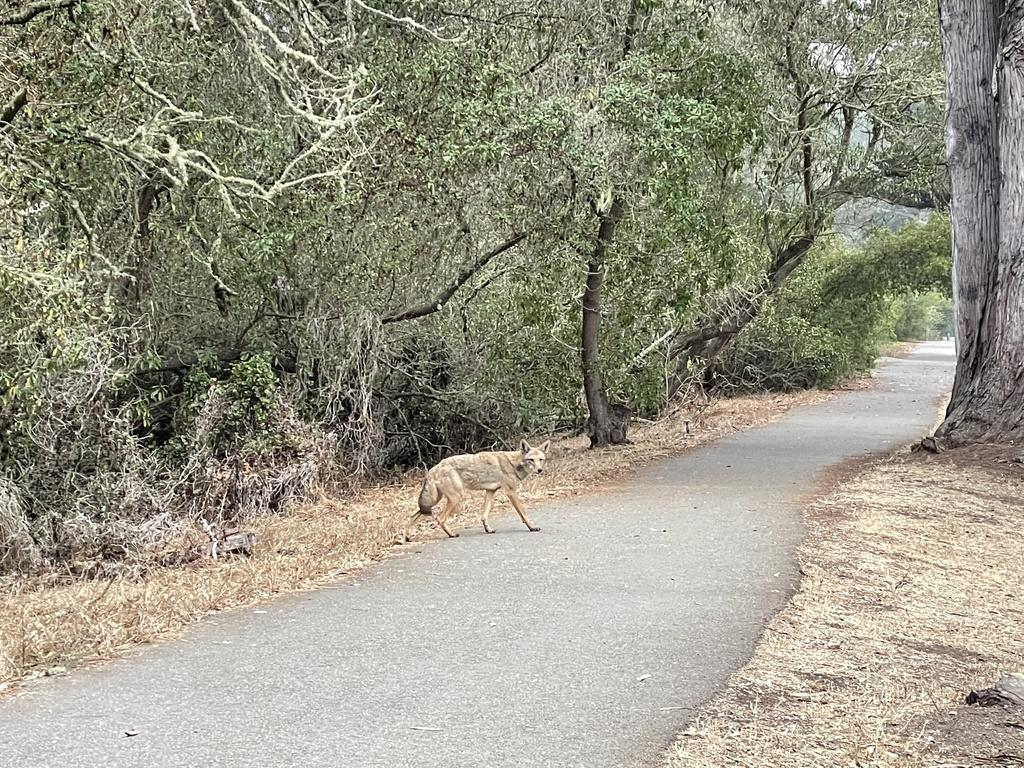Coyote: (403, 436, 554, 539)
